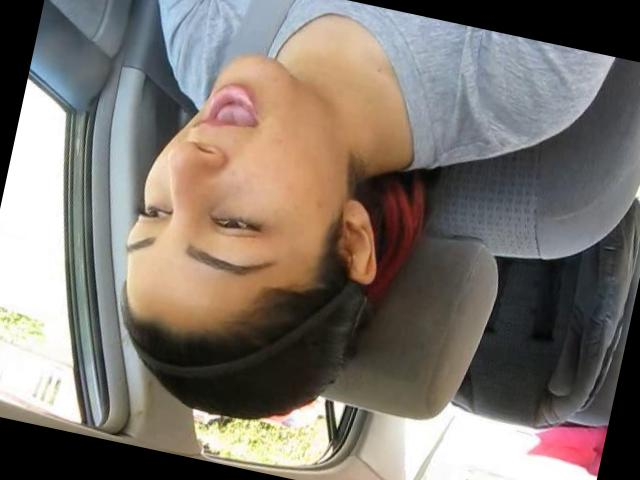eye_open: (204, 204, 268, 248), (136, 196, 172, 229)
face: (114, 32, 344, 311)
mouth_open: (185, 74, 274, 148)
